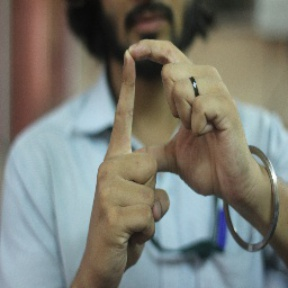D: (97, 37, 229, 187)
